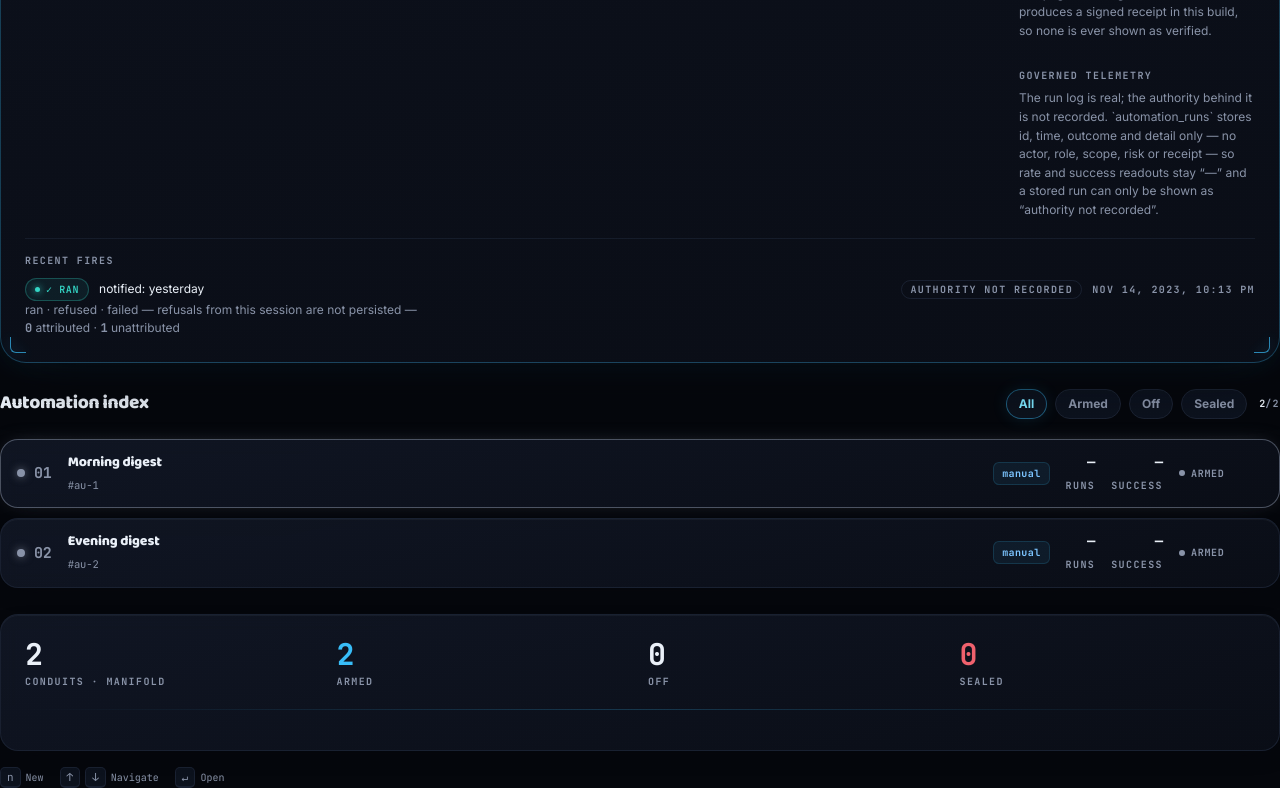
Test: the run history belongs to the automation on screen › a failed read for the second automation shows an error, not the first one's runs
This screenshot has width=1280, height=788.
(page scrolled)
Check: the number of list items with class "au-run" is 1, box [25,278,1255,300]
Check: the list item with class "au-run" shows "notified: yesterday", box [99,281,204,296]
Click the button "02 Evening digest #au-2 manual — runs — success Armed" at (114,541), box [0,518,1279,588]
(page scrolled)
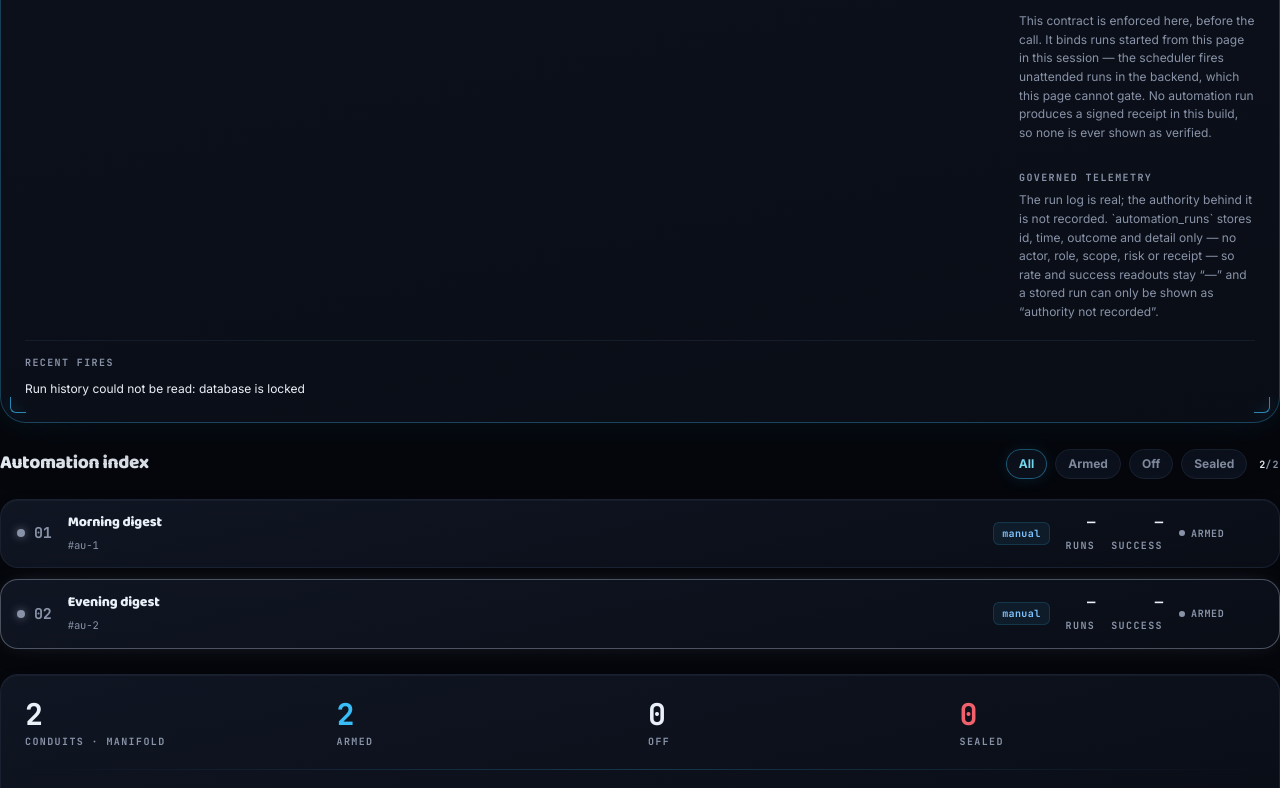
Check: the text "Run history could not be read: database is locked" is shown, box [25,380,305,396]
Check: no list items with class "au-run" are shown
Check: the text "notified: yesterday" is gone
